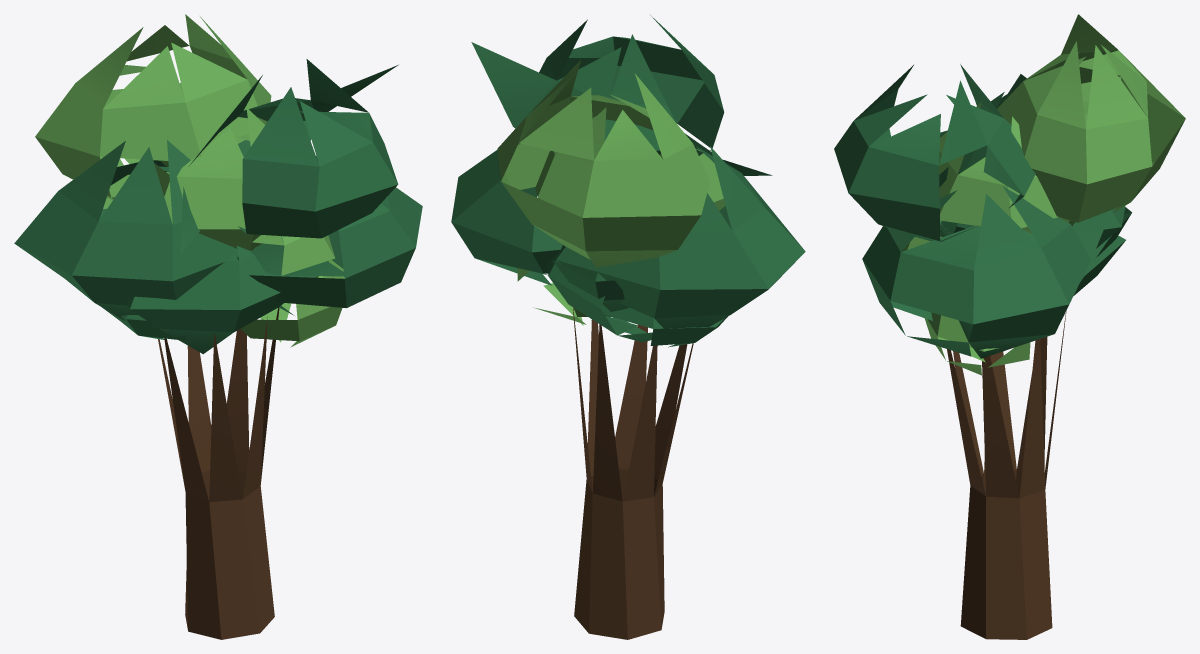
File: tree_a_lod1.glb
3 renders of one model, left to right at view 1: azimuth 30°, elevation 25°; view 2: azimuth 150°, elevation 25°; view 3: azimuth 270°, elevation 25°, orthographic.
Parts seen in each view (by area): view 1: TREE_A; view 2: TREE_A; view 3: TREE_A.
Boxes of the visible parts, x1,y1,x2,y2 form: TREE_A: (14, 14, 422, 639); TREE_A: (451, 15, 805, 639); TREE_A: (834, 14, 1185, 639).
Size of the model in its own units: 4.26 by 6.61 by 3.59.
